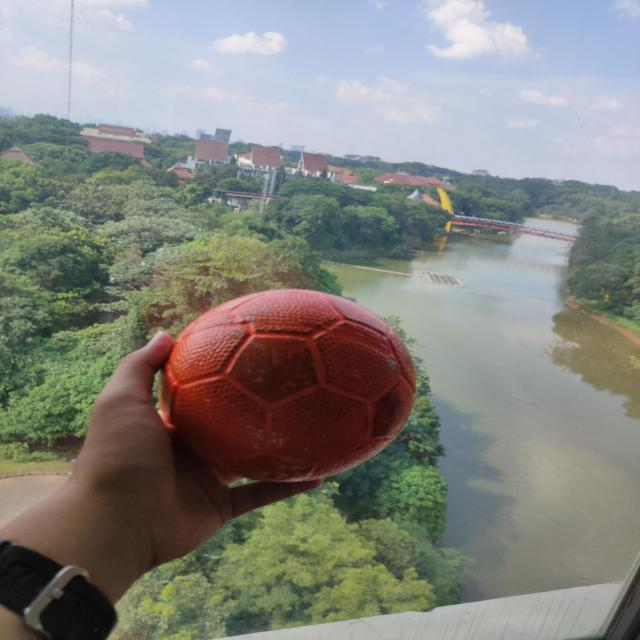bola: (70, 275, 484, 483)
